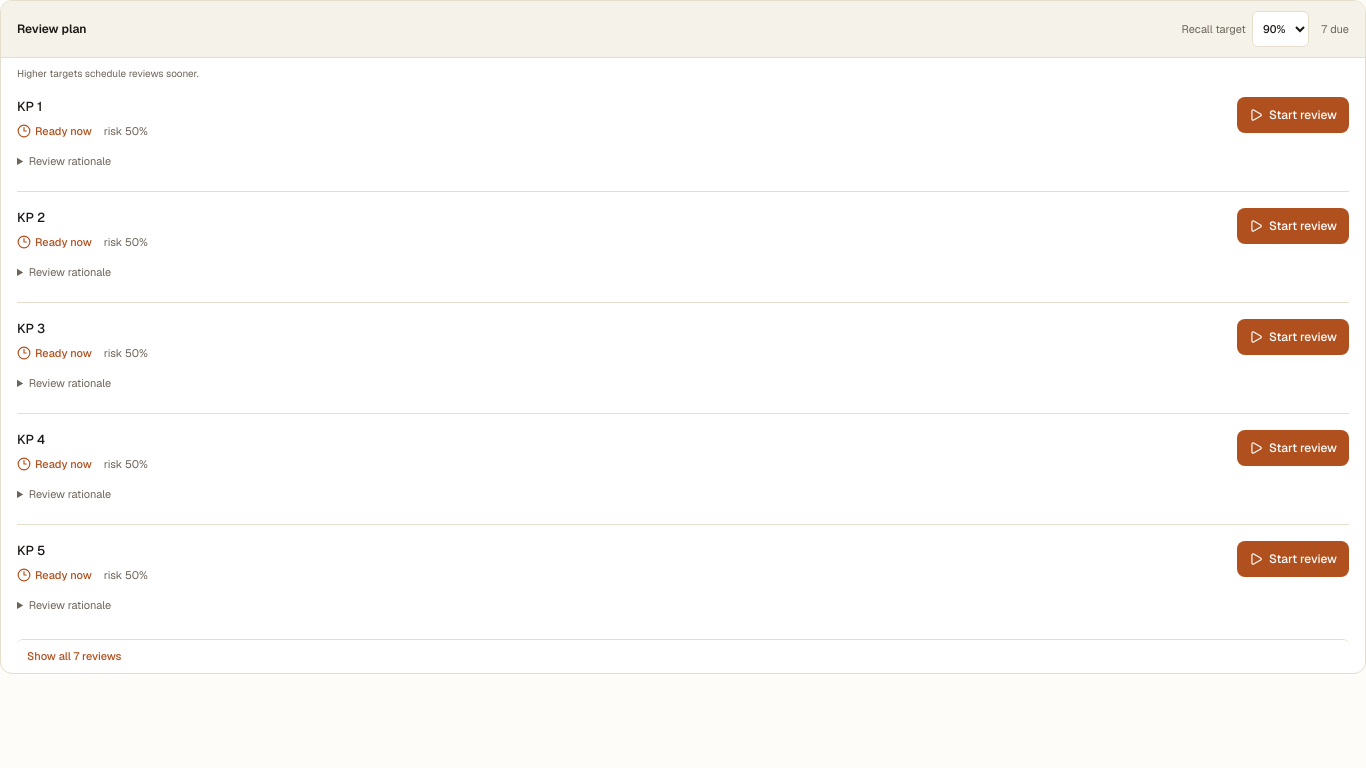
Test: ReviewTrail interactions › keeps all reviews reachable through explicit expansion
Expected: the text "7 due" is shown, 1321,21 -> 1349,37
Expected: the number of buttons named "Start review for" is 5, 1237,97 -> 1349,133; 1237,208 -> 1349,244; 1237,319 -> 1349,355; 1237,430 -> 1349,466; 1237,541 -> 1349,577
Click the button "Show all 7 reviews" at x=74, y=656, box 17,639 -> 1349,672
(page scrolled)
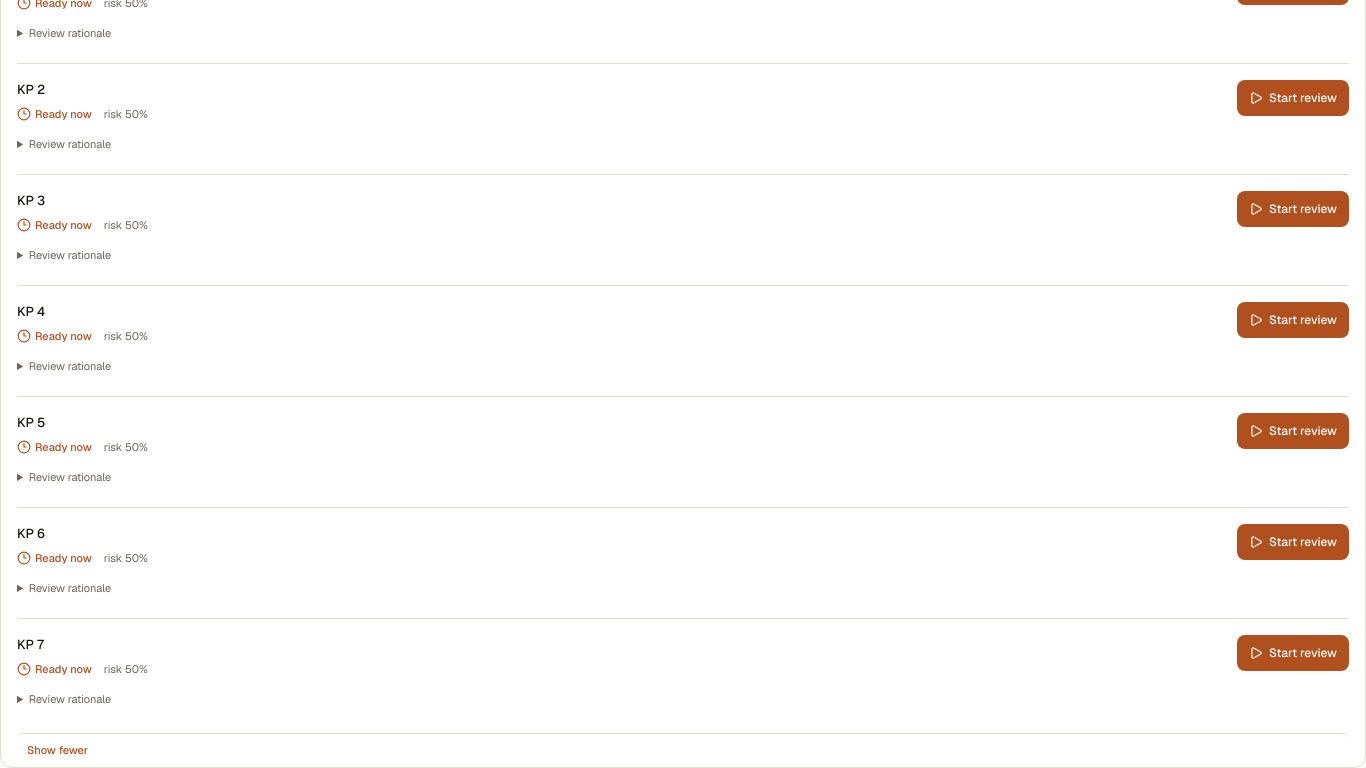
Now the number of buttons named "Start review for" is 7
Click the button "Show fewer" at x=58, y=750, box 17,733 -> 1349,766
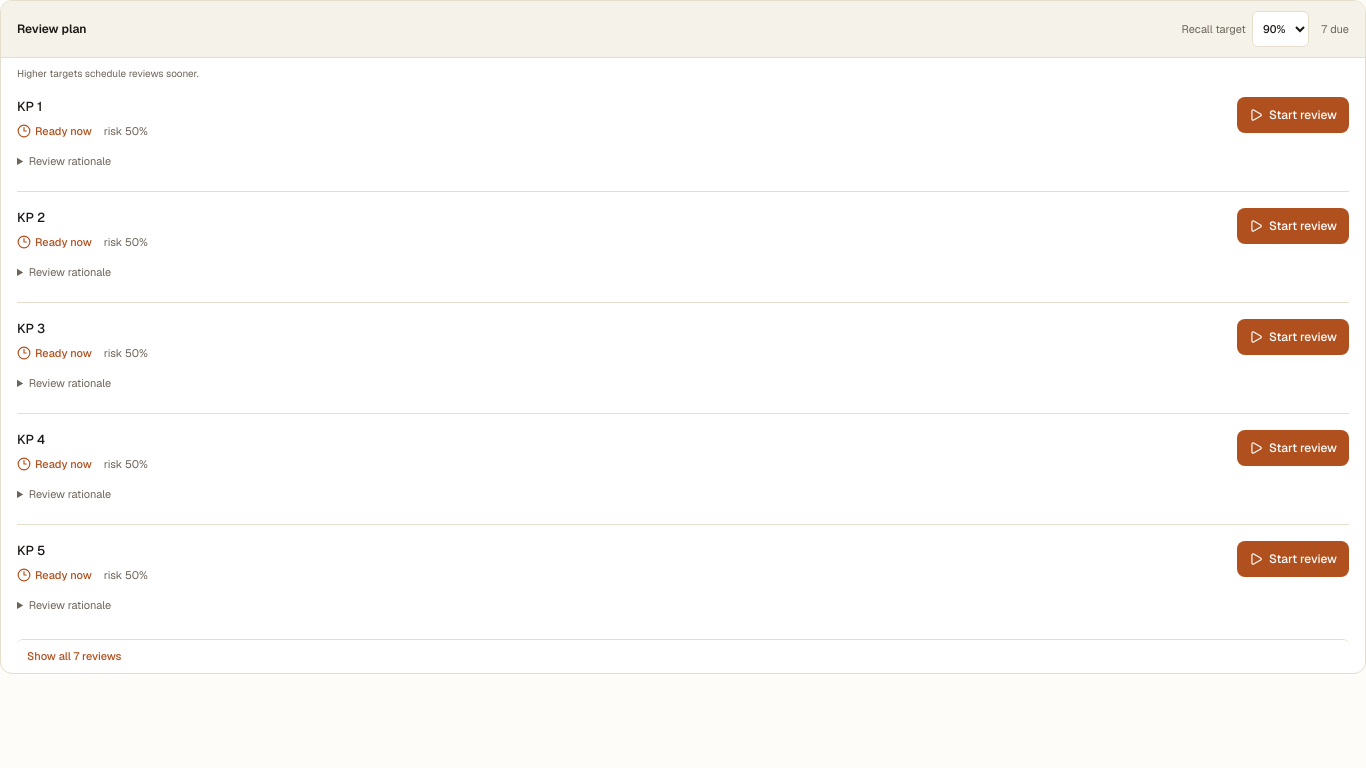
Now the number of buttons named "Start review for" is 5, box 1237,97 -> 1349,133; 1237,208 -> 1349,244; 1237,319 -> 1349,355; 1237,430 -> 1349,466; 1237,541 -> 1349,577
